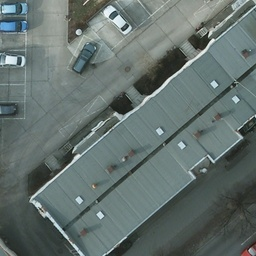car: (103, 4, 132, 36), (72, 44, 98, 73), (0, 51, 26, 69), (0, 19, 28, 33), (0, 2, 28, 16), (0, 102, 18, 117), (142, 0, 176, 2)
